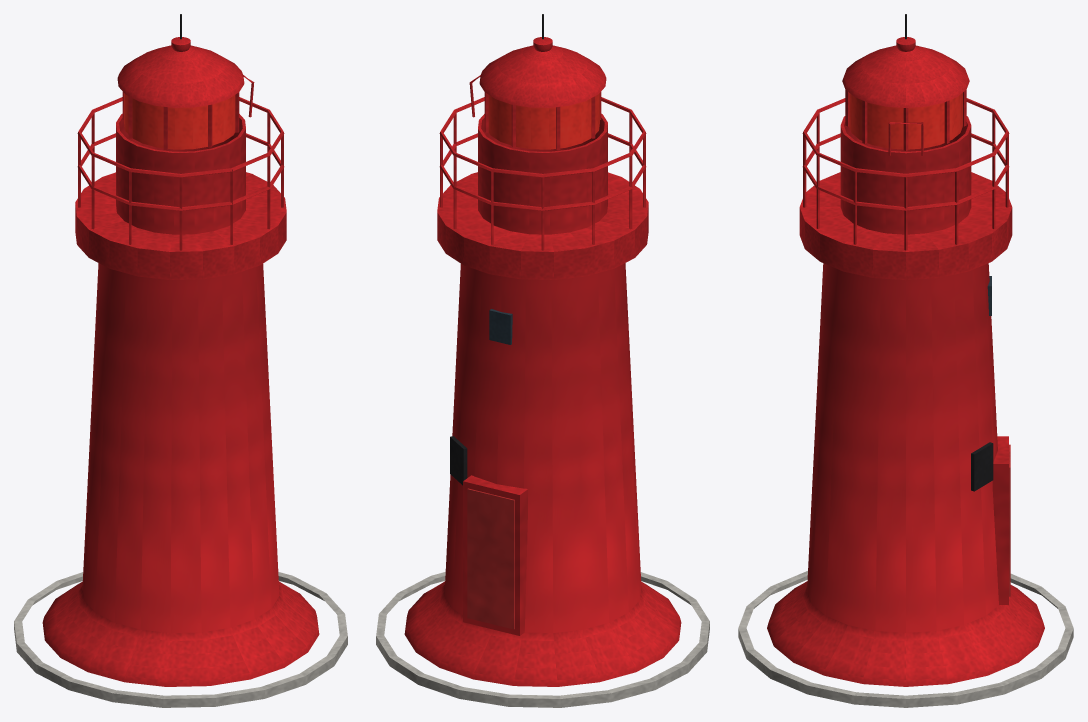
The model's file is SM_MoloItalia_Faro_v2_LOD1.fbx.
3 renders of one model, left to right at view 1: azimuth 30°, elevation 25°; view 2: azimuth 150°, elevation 25°; view 3: azimuth 270°, elevation 25°, orthographic.
Parts seen in each view (by area): view 1: SM_MoloItalia_Faro_v2_LOD1; view 2: SM_MoloItalia_Faro_v2_LOD1; view 3: SM_MoloItalia_Faro_v2_LOD1.
Part boxes in pixels (x1,y1,x2,y2): SM_MoloItalia_Faro_v2_LOD1: (14, 14, 347, 707); SM_MoloItalia_Faro_v2_LOD1: (376, 14, 709, 707); SM_MoloItalia_Faro_v2_LOD1: (738, 14, 1073, 707).
Bounding box in the file's own units: 410 × 410 × 840.
2 materials, 2 textured.
